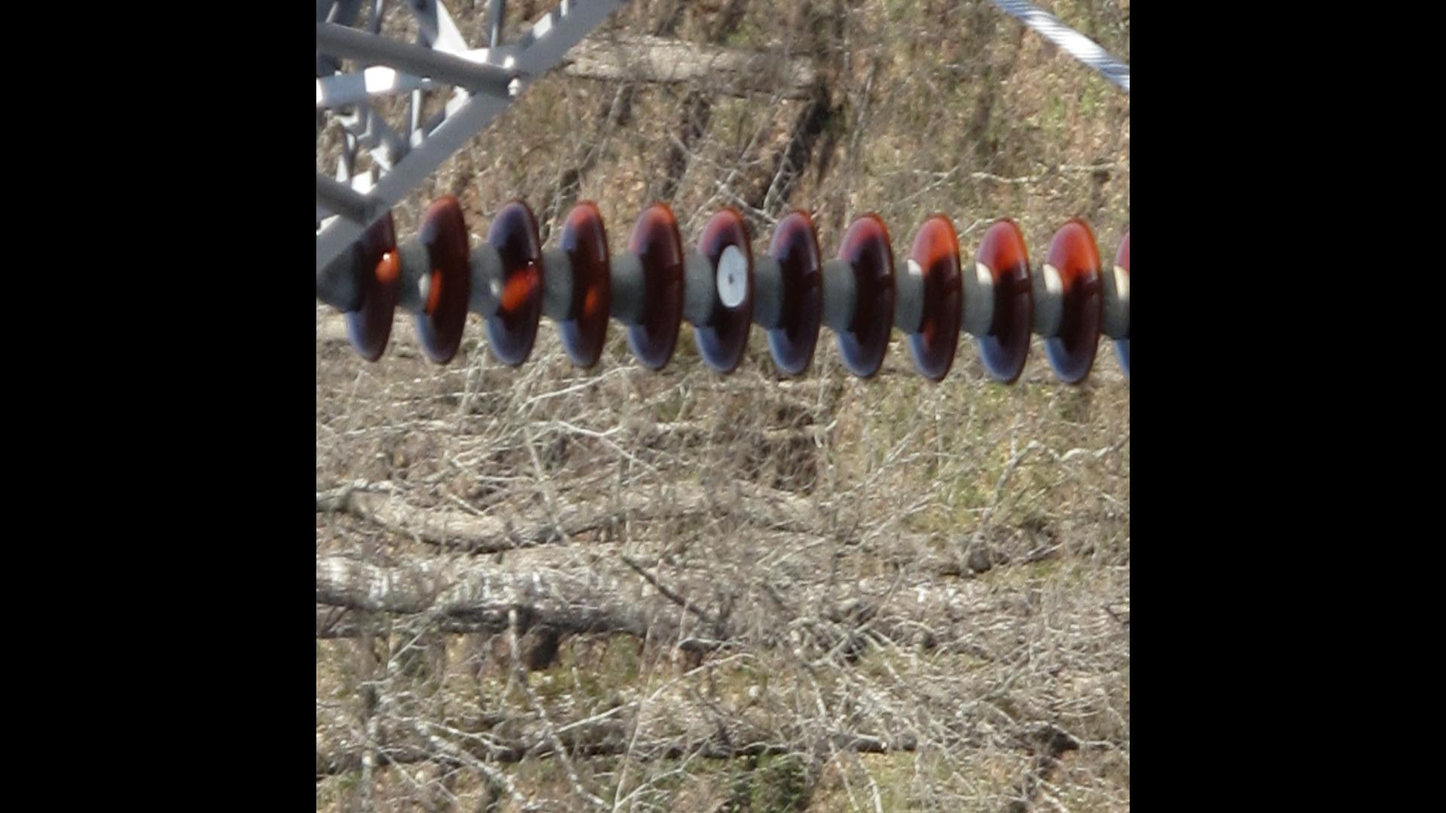insulator: (349, 190, 1110, 391)
insulator_breakage: (712, 236, 757, 316)
